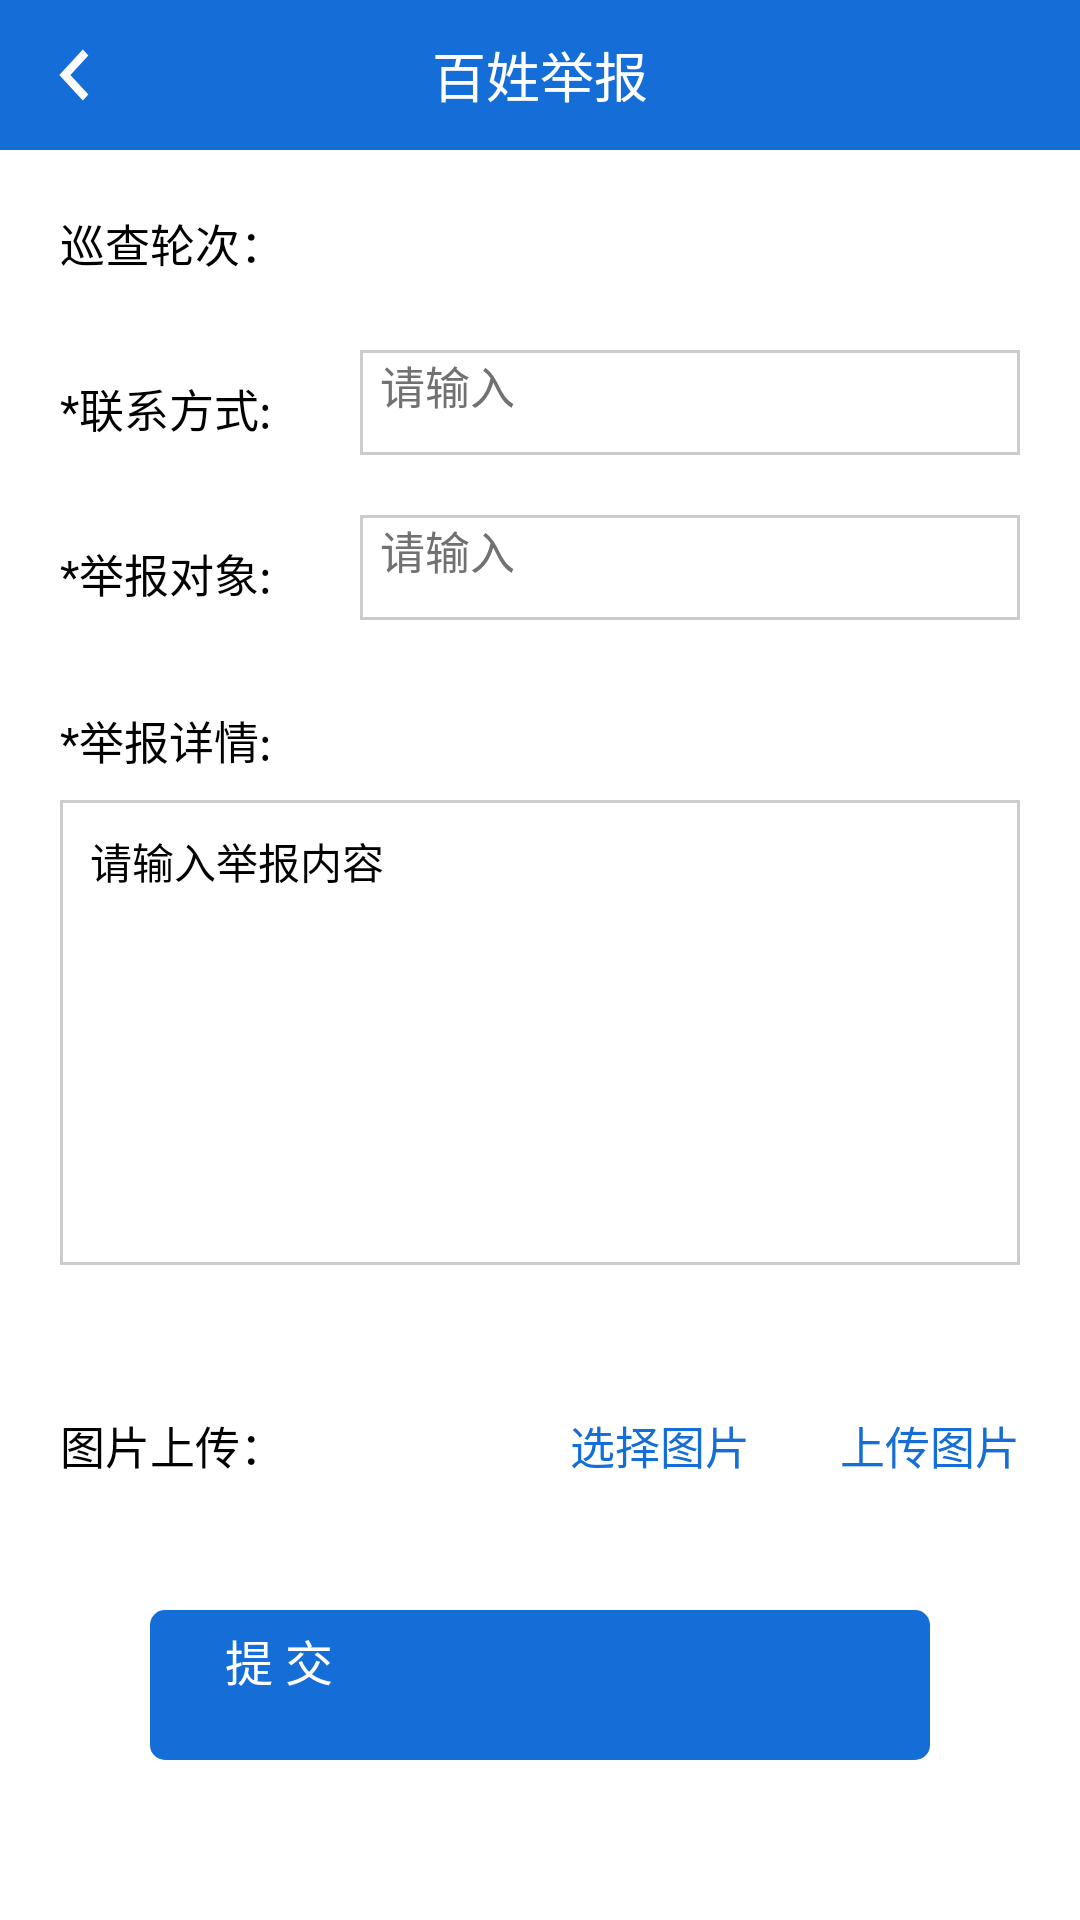

Icons on this 1080x1920 Android screen, each with the point to tap as point (x, y):
left: point (74, 75)
